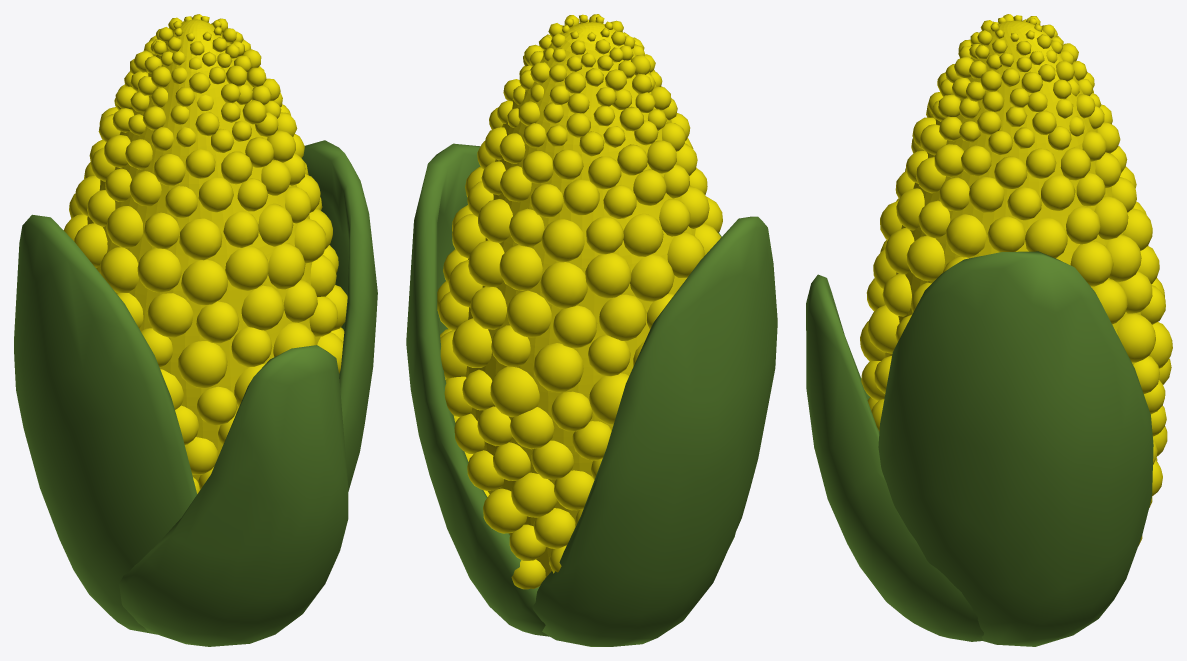
File: maiz.fbx
The picture shows the model from 3 angles, left to right: view 1: azimuth 30°, elevation 25°; view 2: azimuth 150°, elevation 25°; view 3: azimuth 270°, elevation 25°; orthographic projection.
Parts seen in each view (by area): view 1: Maiz3, Maiz2, Maiz1; view 2: Maiz2, Maiz3, Maiz1; view 3: Maiz3, Maiz2, Maiz1.
Boxes of the visible parts, x1,y1,x2,y2 form: Maiz3: [14, 140, 377, 646]; Maiz2: [63, 14, 347, 493]; Maiz1: [87, 19, 320, 481]; Maiz2: [437, 14, 722, 589]; Maiz3: [406, 143, 777, 646]; Maiz1: [465, 22, 696, 577]; Maiz3: [806, 251, 1153, 646]; Maiz2: [860, 14, 1172, 546]; Maiz1: [884, 20, 1140, 365].
Bounding box in the file's own units: 84.04 × 144 × 80.8.
